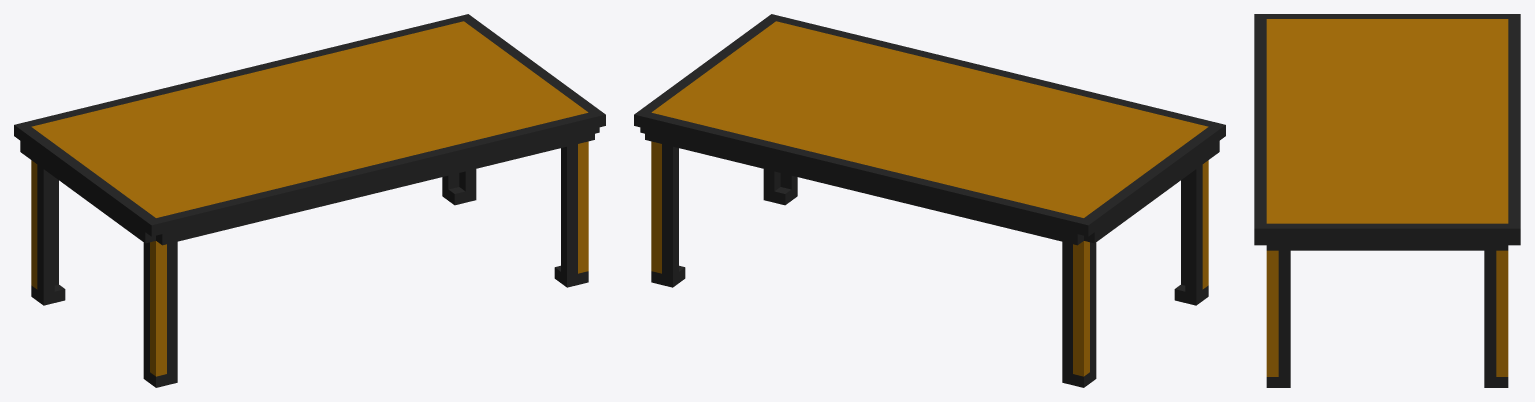
The model's file is Table.obj.
The picture shows the model from 3 angles, left to right: view 1: azimuth 30°, elevation 25°; view 2: azimuth 150°, elevation 25°; view 3: azimuth 270°, elevation 25°; orthographic projection. The views are drawn at different scales.
Size of the model in its own units: 4.2 by 1.5 by 2.2.
Materials: 1 (1 with a texture image).
